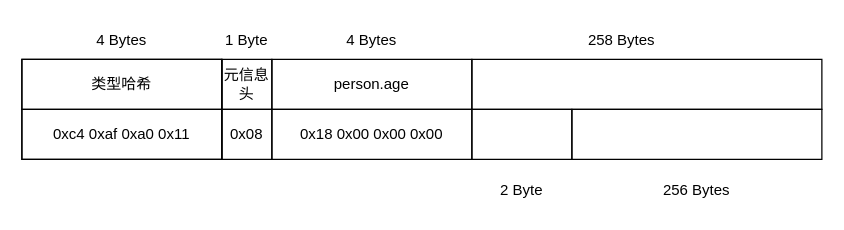
Some shapes in this 844 by 230 pixel diagram are drawn without their labels. Each missing label, with the box of its shape:
0x05 0x00 (长度): (471, 108, 572, 159)
AAAAAA......AAAAA (字符串内容): (571, 108, 822, 159)
person.name: (471, 58, 822, 109)
